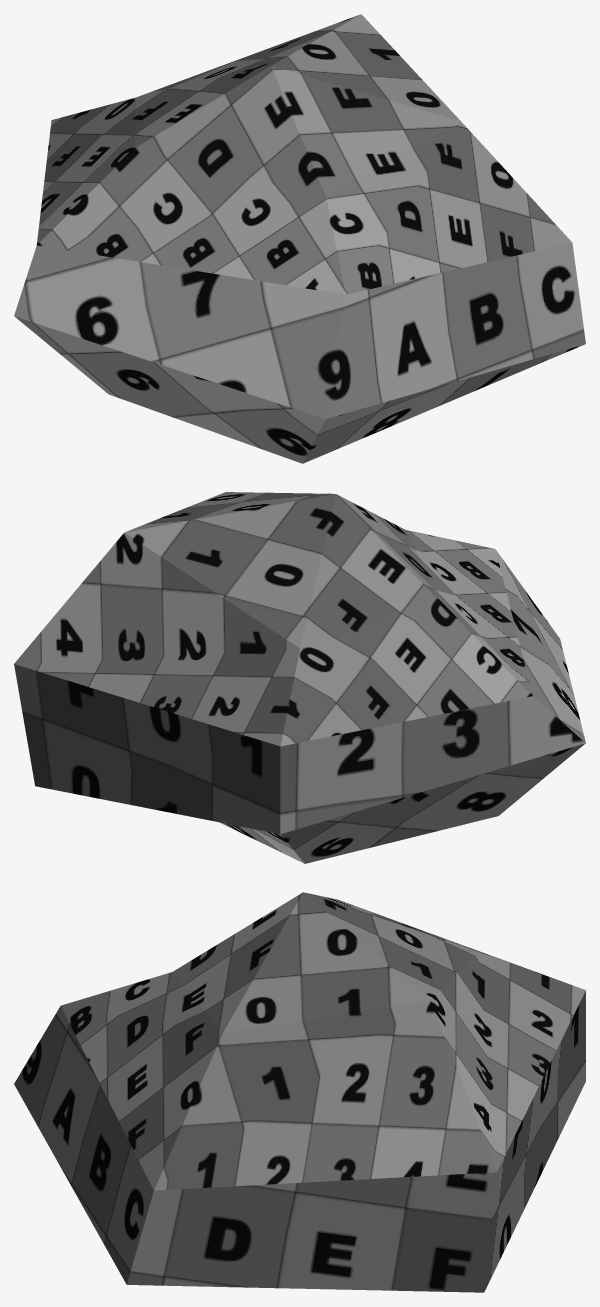
Rendered from Rock4.fbx.
3 views of the same model, one above another, from view 1: azimuth 30°, elevation 25°; view 2: azimuth 150°, elevation 25°; view 3: azimuth 270°, elevation 25° (orthographic). The views are drawn at different scales.
Visible parts, largest first — view 1: Rock2; view 2: Rock2; view 3: Rock2.
Boxes of the visible parts, bbox=[...] form: Rock2: bbox=[14, 14, 585, 463]; Rock2: bbox=[14, 492, 585, 863]; Rock2: bbox=[14, 892, 585, 1292].
Bounding box in the file's own units: 2.6 × 1.65 × 2.58.
1 material, 1 textured.
